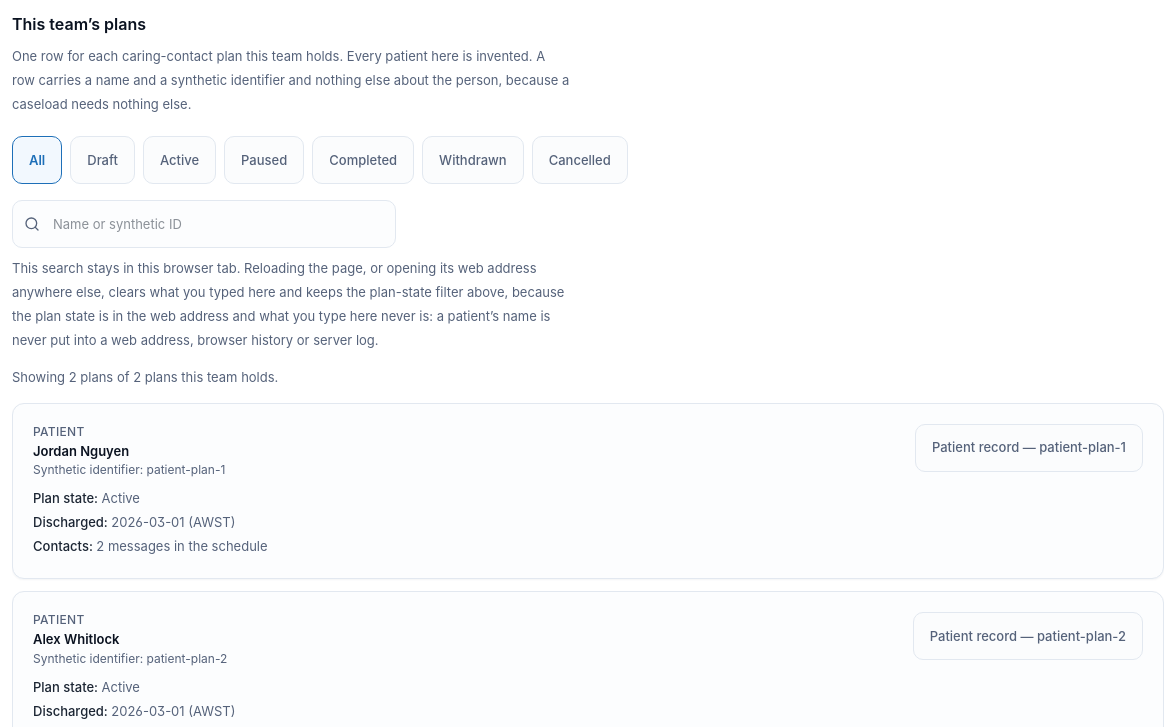
Test: Patients directory - the names-only projection (Ruling 91) › matches the search against the name case-insensitively, on a part of it
In the search field: (204, 224) [12,200,396,248], type "nguyen"
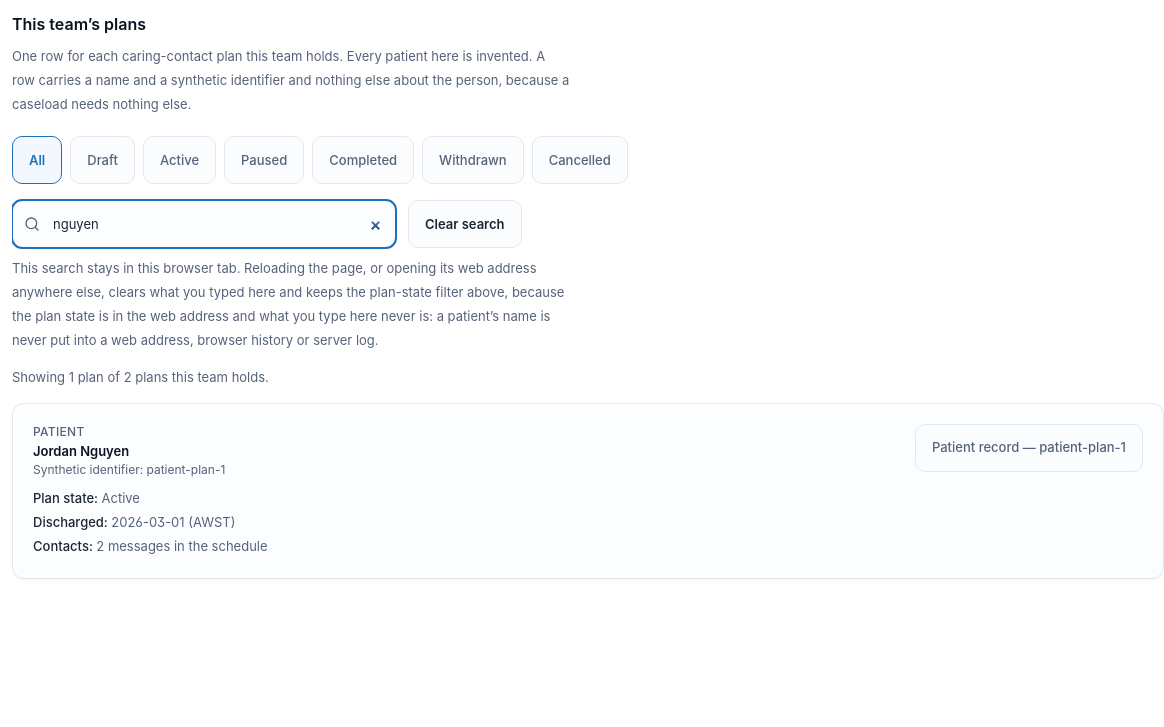
Expected: the heading "Jordan Nguyen" is shown, [33,443,129,459]
Expected: the number of list items is 1, [12,403,1163,579]
